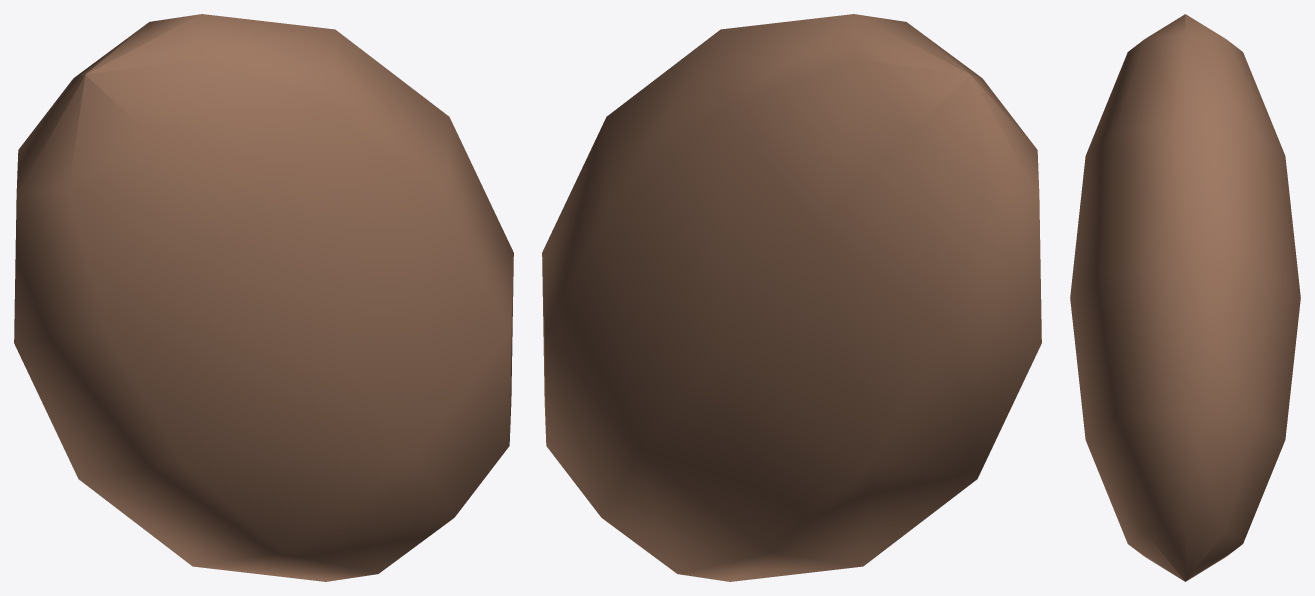
File: hand_R.obj
3 views of the same model, side by side, from view 1: azimuth 30°, elevation 25°; view 2: azimuth 150°, elevation 25°; view 3: azimuth 270°, elevation 25° (orthographic). The views are drawn at different scales.
Visible parts, largest first — view 1: hand_R; view 2: hand_R; view 3: hand_R.
Boxes of the visible parts, x1,y1,x2,y2 form: hand_R: [14, 14, 513, 581]; hand_R: [542, 14, 1041, 581]; hand_R: [1070, 14, 1300, 581].
Size of the model in its own units: 0.0605 by 0.0692 by 0.0302.
